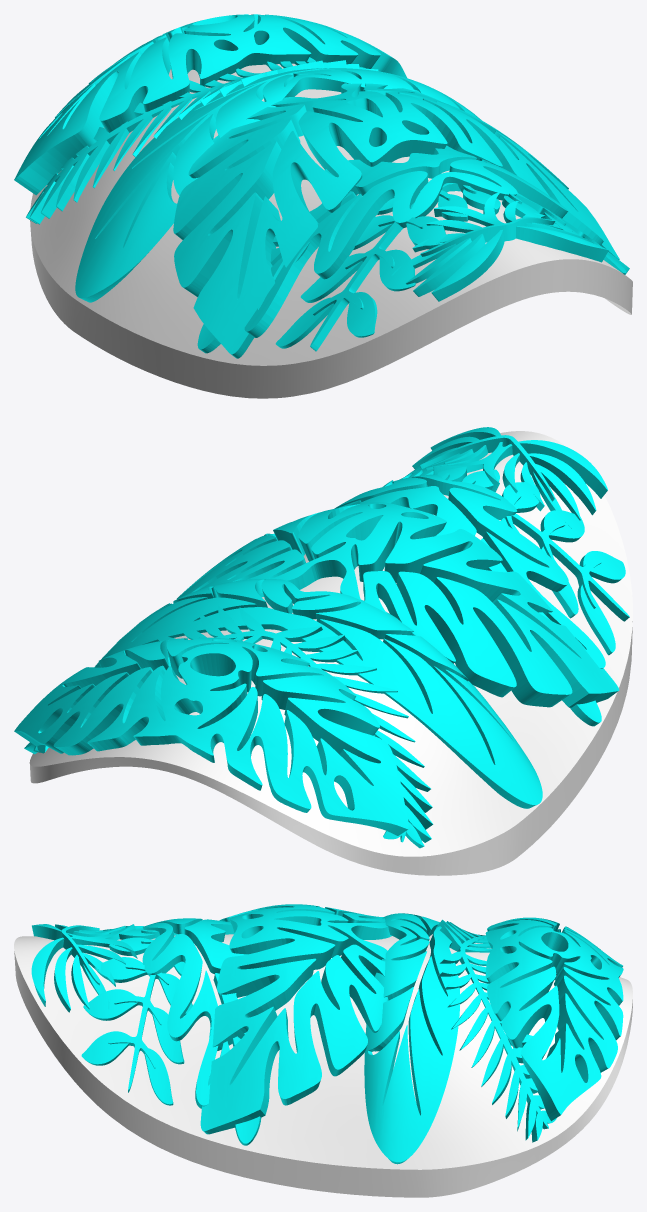
Rendered from jungle-oval-full.glb.
The picture shows the model from 3 angles, top to bottom: view 1: azimuth 30°, elevation 25°; view 2: azimuth 150°, elevation 25°; view 3: azimuth 270°, elevation 25°; orthographic projection. The views are drawn at different scales.
Size of the model in its own units: 0.0144 by 0.00674 by 0.0201.
